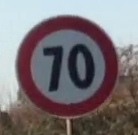limite 70: (15, 12, 120, 118)
